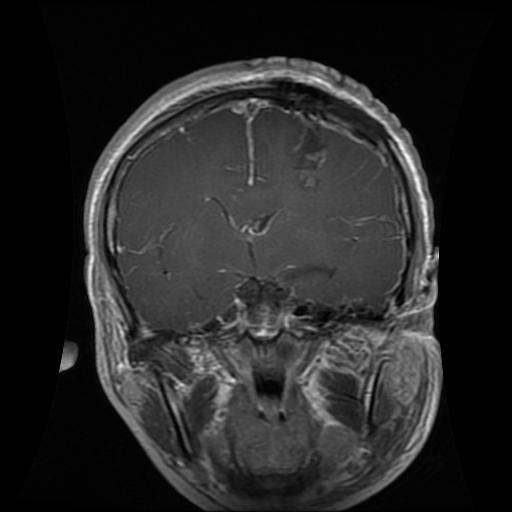Gliomia_tumour: (282, 111, 330, 191)
